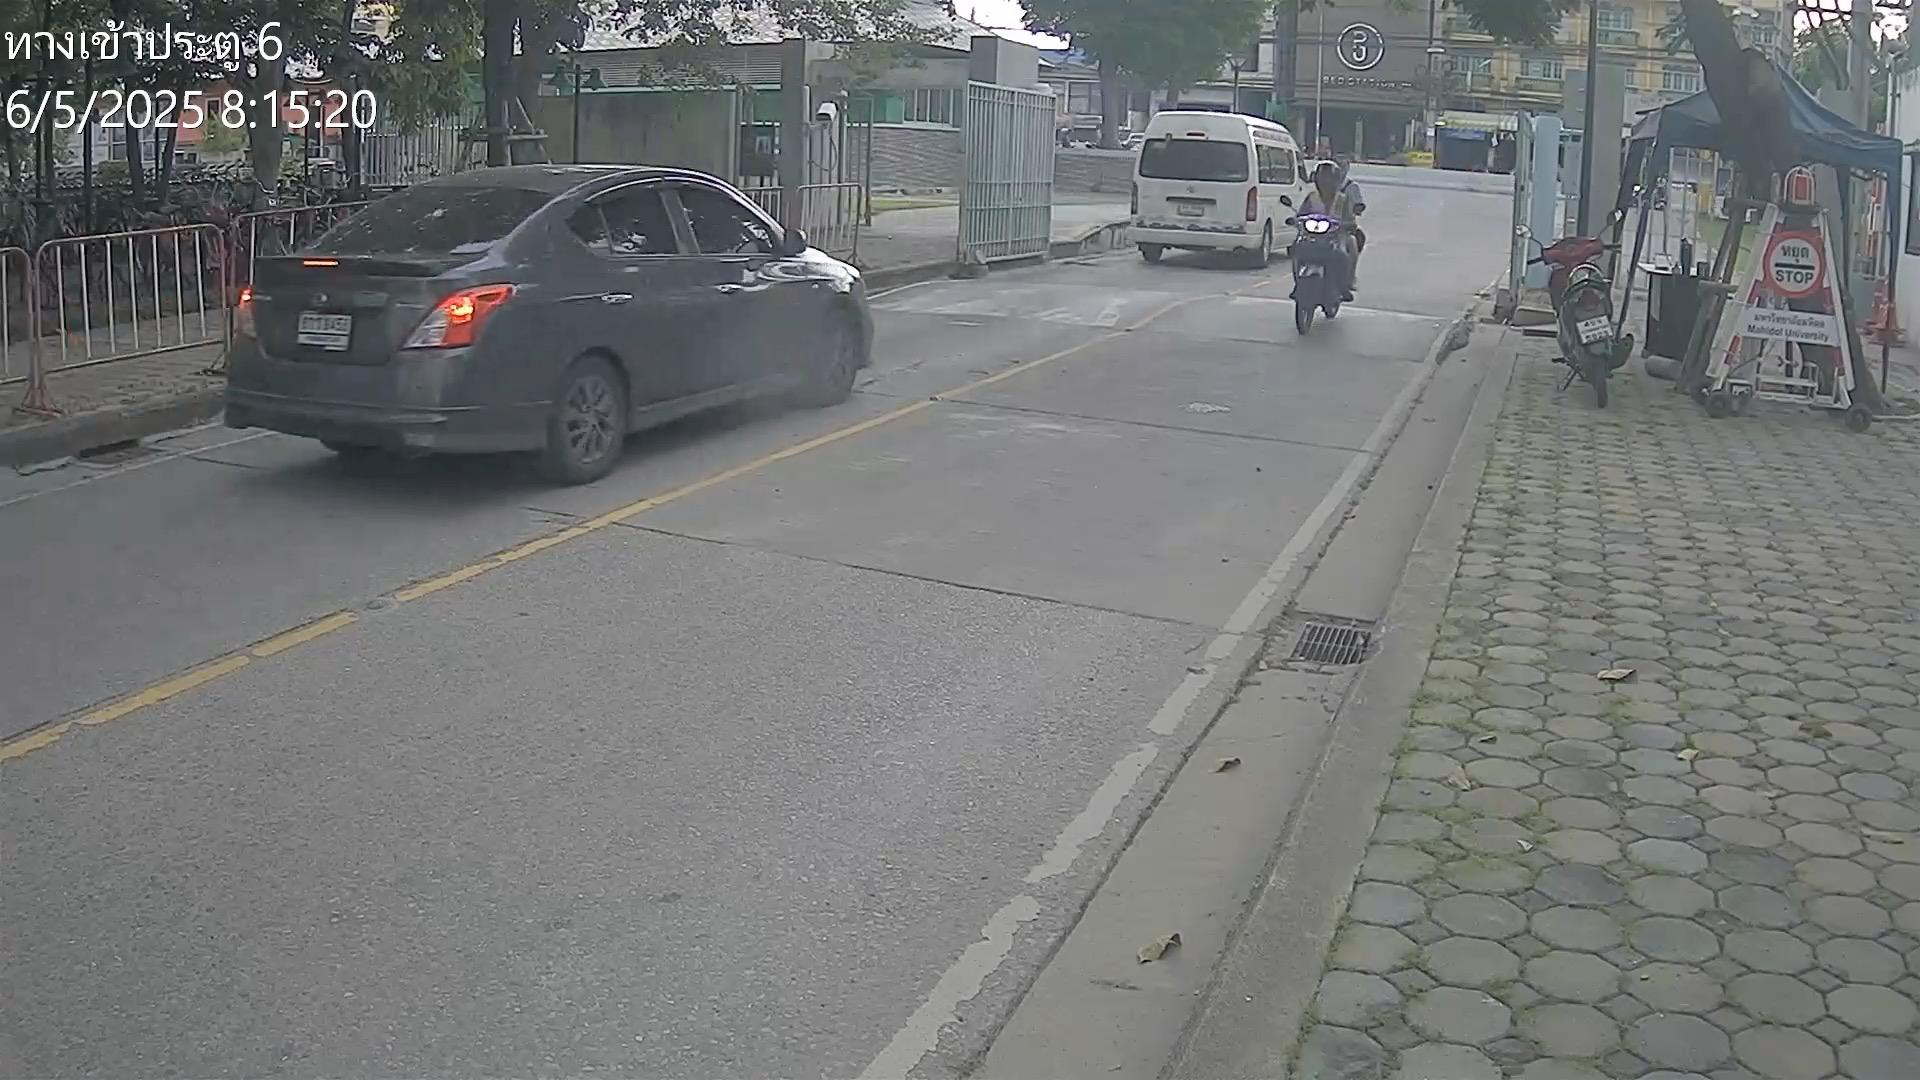With-Helmet: (1312, 160, 1342, 195)
